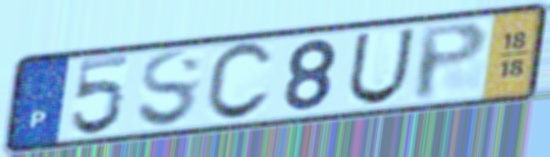5: (68, 52, 132, 139)
8: (281, 37, 339, 113)
C: (201, 39, 276, 125)
P: (412, 19, 492, 103)
S: (134, 48, 206, 130)
U: (344, 26, 419, 108)
